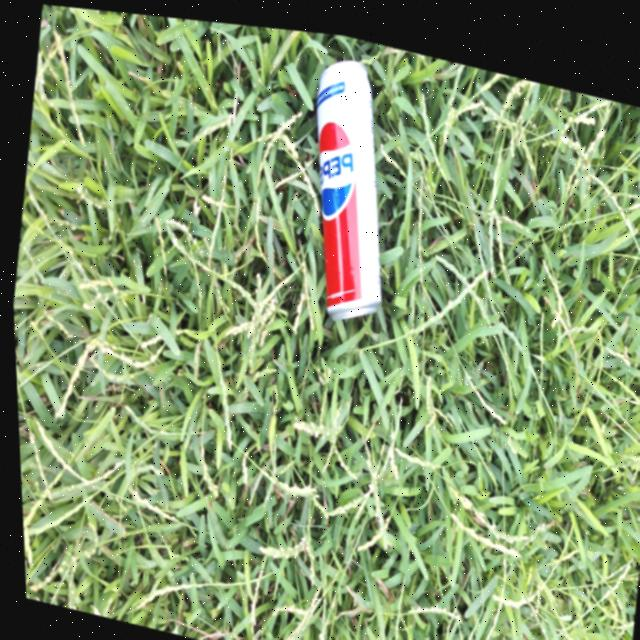Pepsi Retro: (277, 45, 408, 322)
